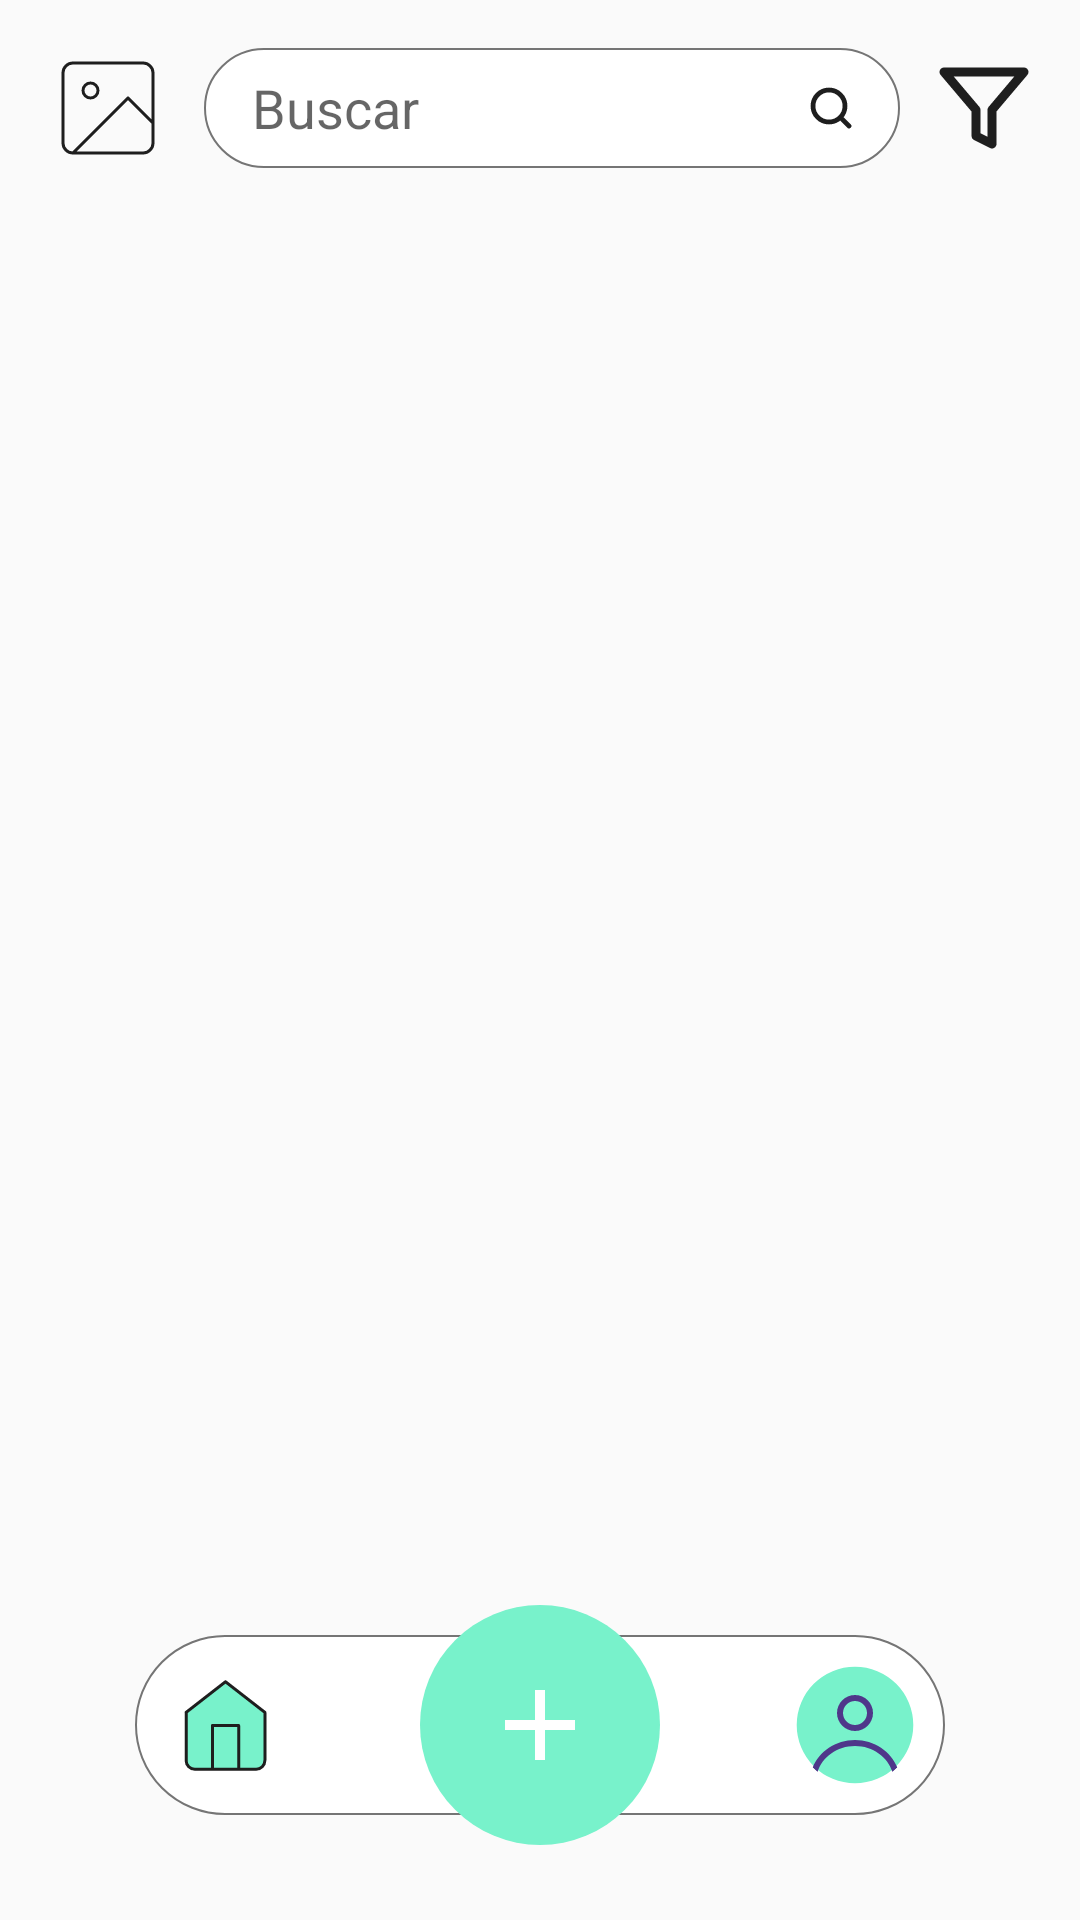

Where icons sit on this 1080px×1920px app screen, as [x1,y1,x2,y2]:
add: [420,1605,660,1845]
filter: [939,67,1029,149]
home: [184,1680,267,1771]
profile: [796,1666,914,1784]
